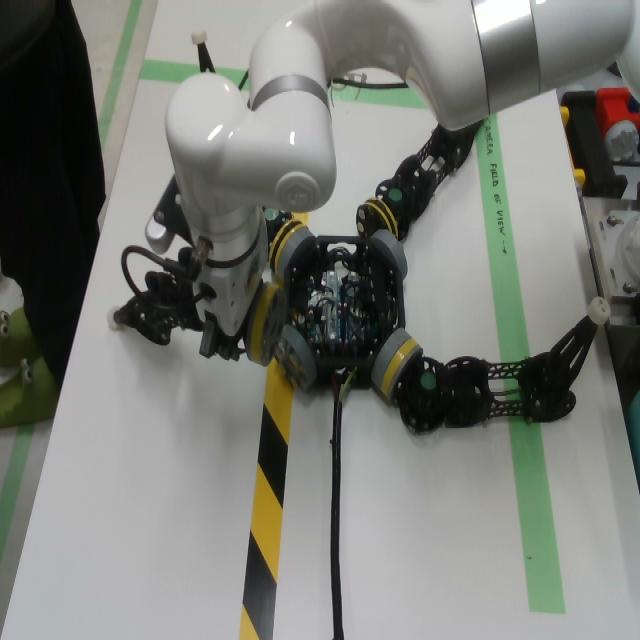body: (285, 235, 405, 391)
body_connector: (276, 325, 318, 389), (371, 328, 412, 387), (369, 229, 408, 281), (277, 227, 316, 277)
leg: (380, 297, 611, 432), (355, 121, 479, 243), (107, 271, 205, 347), (244, 283, 284, 368), (263, 208, 304, 272), (191, 31, 216, 73)
leg_connector: (245, 283, 284, 368), (381, 339, 423, 400), (355, 199, 399, 240)
leg_marker: (422, 373, 436, 391), (263, 208, 279, 220), (389, 188, 402, 200)
